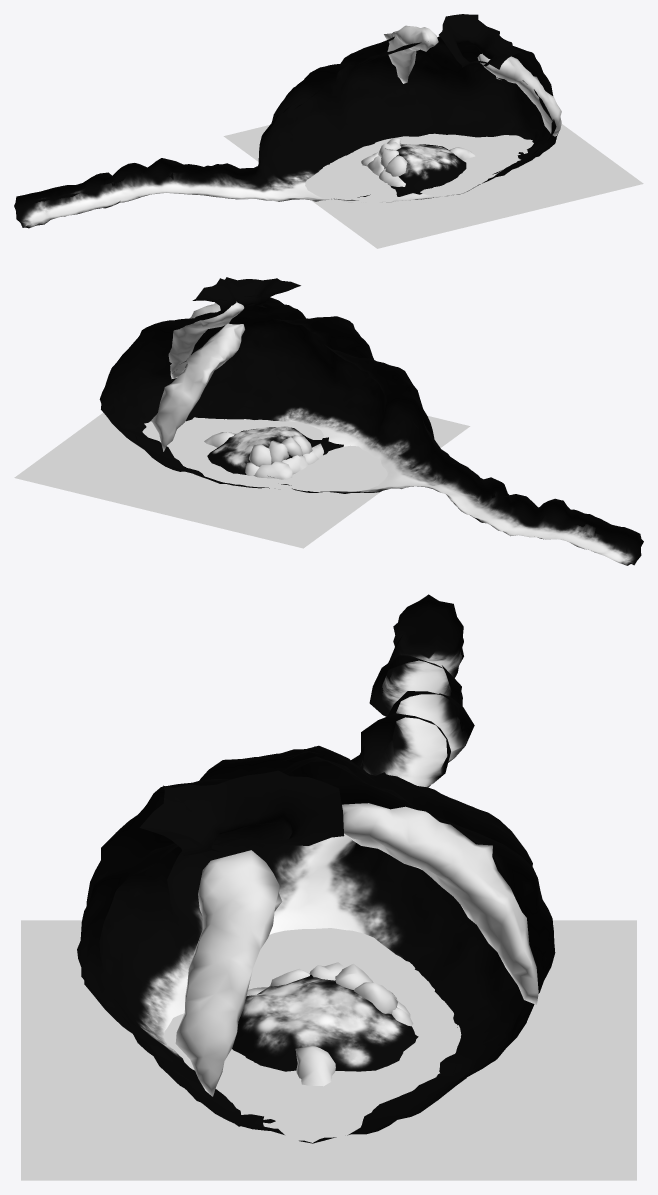
File: ScenicCave.gltf
3 renders of one model, top to bottom at view 1: azimuth 30°, elevation 25°; view 2: azimuth 150°, elevation 25°; view 3: azimuth 270°, elevation 25°, orthographic. The views are drawn at different scales.
Visible parts, largest first — view 1: Cave, Water, Island, Rock10, Rock11; view 2: Cave, Water, Rock11, Island, Rock10, Rock9; view 3: Water, Cave, Rock10, Rock11, Island, Rock8, Rock5.
Boxes of the visible parts, x1,y1,x2,y2 form: Cave: [14, 14, 558, 228]; Water: [223, 124, 643, 248]; Island: [381, 144, 466, 196]; Rock10: [477, 53, 561, 136]; Rock11: [384, 25, 438, 83]; Cave: [99, 277, 643, 565]; Water: [14, 412, 470, 548]; Rock11: [151, 323, 244, 451]; Island: [207, 426, 343, 474]; Rock10: [168, 301, 244, 378]; Rock9: [254, 461, 292, 479]; Water: [21, 920, 636, 1180]; Cave: [77, 594, 555, 1143]; Rock10: [175, 850, 282, 1096]; Rock11: [342, 803, 538, 1004]; Island: [232, 974, 418, 1071]; Rock8: [295, 1045, 335, 1086]; Rock5: [354, 982, 397, 1014].
Bounding box in the file's own units: 77.09 × 21.8 × 39.47.
